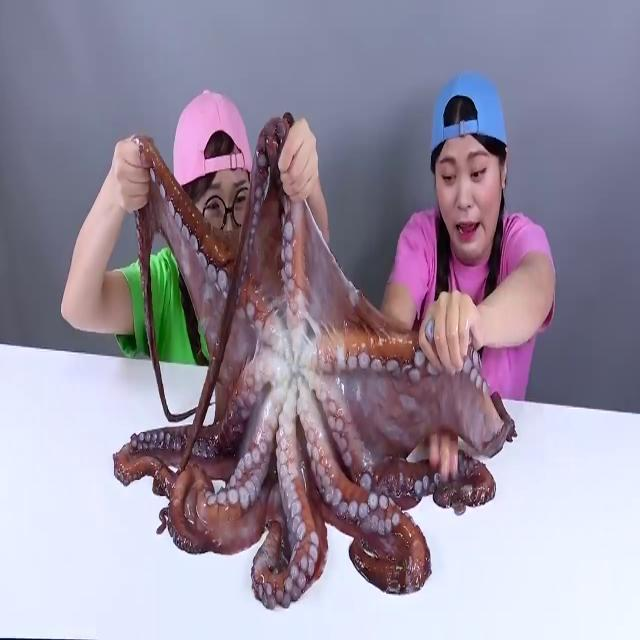octopus: (109, 119, 518, 618)
